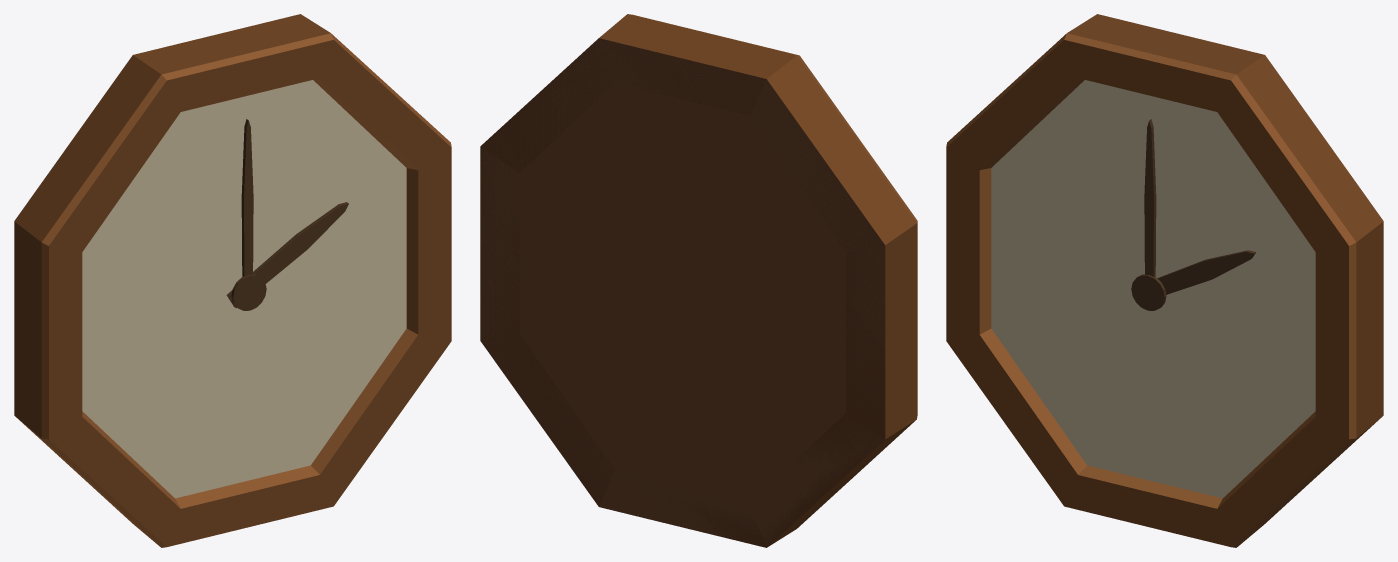
Rendered from clock.glb.
3 views of the same model, side by side, from view 1: azimuth 30°, elevation 25°; view 2: azimuth 150°, elevation 25°; view 3: azimuth 330°, elevation 25° (orthographic).
Parts seen in each view (by area): view 1: Clock_Dial, Clock_Frame_08, Clock_Frame_07, Clock_Frame_01, Clock_Frame_03, Clock_Frame_04, Clock_Frame_06, Clock_Frame_05, Clock_Frame_02, Hand_Hour, Hand_Minute, Hand_Hub; view 2: Clock_Back, Clock_Frame_07, Clock_Frame_08, Clock_Frame_01, Clock_Frame_04, Clock_Frame_02, Clock_Frame_06, Clock_Frame_03, Clock_Frame_05; view 3: Clock_Dial, Clock_Frame_02, Clock_Frame_03, Clock_Frame_01, Clock_Frame_07, Clock_Frame_06, Clock_Frame_04, Clock_Frame_05, Clock_Frame_08, Hand_Hour, Hand_Minute, Hand_Hub.
Part boxes in pixels (box(x1,y1,x2,y2)): Clock_Dial: box(82, 80, 406, 498); Clock_Frame_08: box(14, 55, 180, 252); Clock_Frame_07: box(14, 221, 82, 439); Clock_Frame_01: box(133, 14, 333, 111); Clock_Frame_03: box(406, 148, 451, 340); Clock_Frame_04: box(311, 328, 451, 505); Clock_Frame_06: box(16, 411, 180, 547); Clock_Frame_05: box(167, 465, 333, 546); Clock_Frame_02: box(313, 34, 451, 170); Hand_Hour: box(226, 202, 348, 308); Hand_Minute: box(241, 119, 253, 276); Hand_Hub: box(231, 274, 266, 310); Clock_Back: box(480, 38, 885, 547); Clock_Frame_07: box(846, 222, 917, 439); Clock_Frame_08: box(752, 55, 917, 252); Clock_Frame_01: box(599, 14, 798, 115); Clock_Frame_04: box(480, 333, 614, 506); Clock_Frame_02: box(480, 39, 614, 172); Clock_Frame_06: box(760, 413, 915, 547); Clock_Frame_03: box(480, 147, 519, 340); Clock_Frame_05: box(611, 471, 766, 547); Clock_Dial: box(991, 80, 1315, 498); Clock_Frame_02: box(1217, 55, 1383, 252); Clock_Frame_03: box(1315, 221, 1383, 439); Clock_Frame_01: box(1064, 14, 1264, 111); Clock_Frame_07: box(946, 148, 991, 340); Clock_Frame_06: box(946, 328, 1086, 505); Clock_Frame_04: box(1217, 411, 1381, 547); Clock_Frame_05: box(1064, 465, 1230, 546); Clock_Frame_08: box(946, 34, 1084, 170); Hand_Hour: box(1157, 250, 1255, 294); Hand_Minute: box(1144, 119, 1156, 276); Hand_Hub: box(1131, 274, 1166, 310).
Size of the model in its own units: 0.38 by 0.42 by 0.054.
